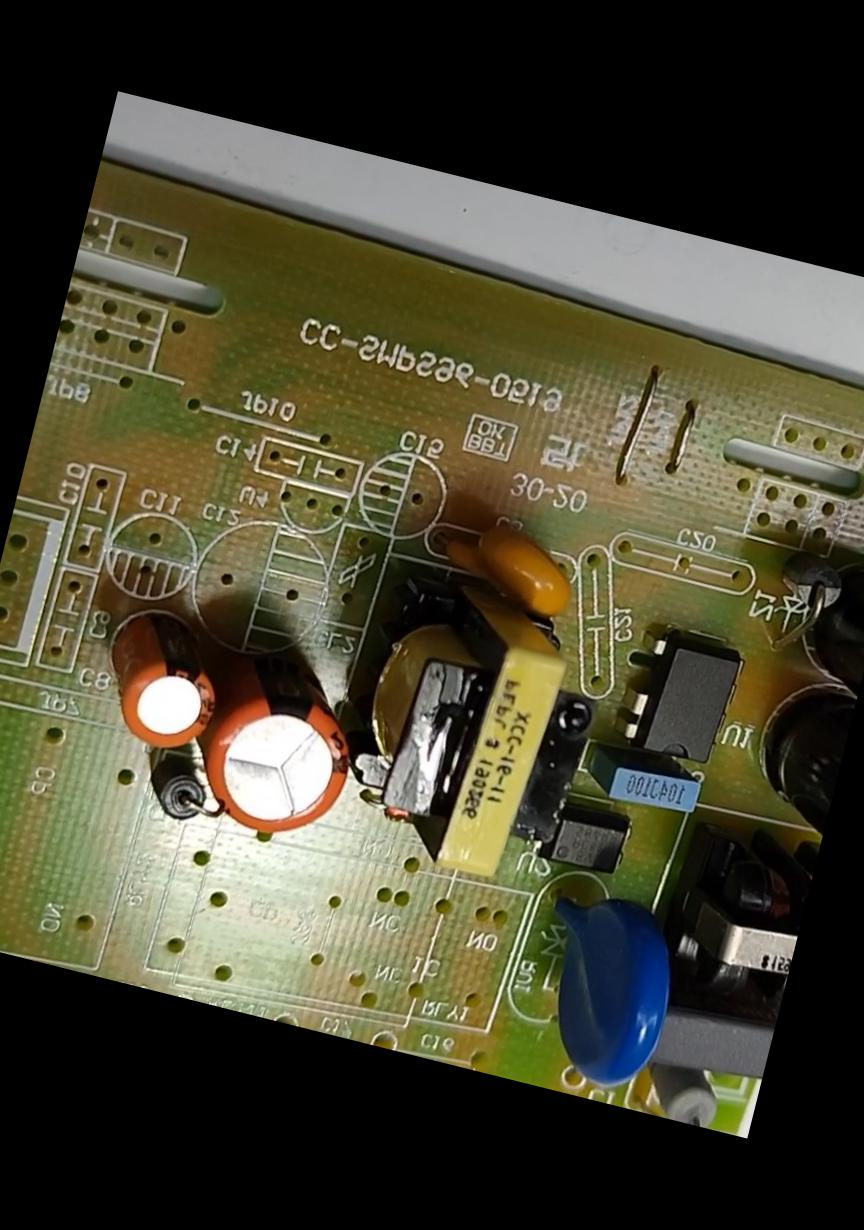Cap1: (186, 628, 373, 850)
Cap2: (90, 612, 232, 758)
Cap3: (783, 547, 863, 737)
Cap4: (732, 701, 850, 869)
MOSFET: (621, 629, 749, 772)
Mov: (515, 876, 694, 1102)
Resistor: (644, 1062, 728, 1130)
Transformer: (332, 573, 609, 898), (681, 857, 810, 1006)
